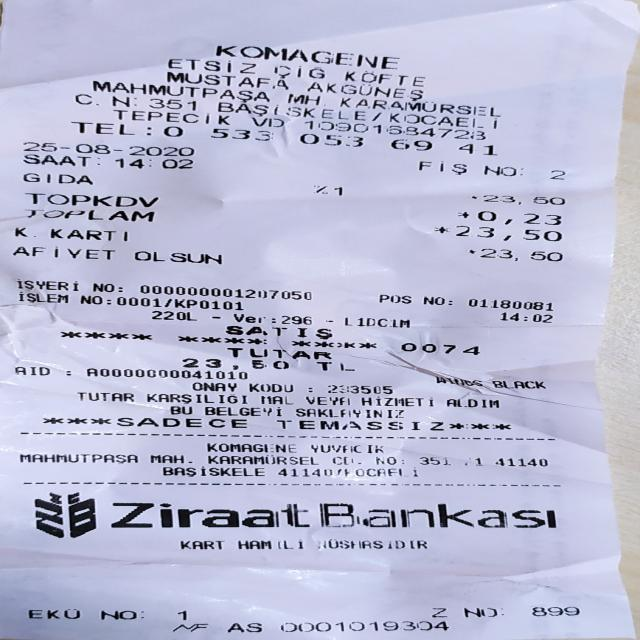text: (318, 500, 556, 531), (111, 500, 310, 530), (215, 42, 398, 70), (342, 92, 501, 120), (92, 80, 269, 102), (212, 98, 362, 123), (306, 120, 484, 141), (140, 283, 314, 300), (168, 67, 286, 92), (276, 416, 439, 434), (313, 78, 421, 102), (112, 106, 227, 128), (21, 142, 192, 156), (24, 190, 154, 208), (389, 109, 494, 131), (28, 205, 151, 223), (457, 223, 558, 244), (116, 414, 245, 430), (87, 367, 244, 380), (279, 620, 447, 631), (348, 66, 420, 90), (12, 245, 115, 261), (226, 346, 329, 362), (226, 323, 328, 339), (164, 57, 259, 74), (182, 357, 285, 372), (478, 208, 557, 227), (480, 246, 564, 263), (52, 225, 125, 244), (314, 538, 428, 550), (116, 154, 190, 172), (207, 454, 316, 466), (19, 453, 137, 464), (133, 250, 225, 264), (296, 406, 402, 418), (147, 392, 246, 404), (469, 297, 551, 311), (302, 130, 358, 150), (24, 169, 89, 186), (174, 296, 242, 312), (213, 125, 264, 145), (402, 342, 480, 355), (162, 466, 263, 476), (204, 404, 280, 417), (486, 193, 558, 206), (359, 395, 435, 407), (206, 442, 295, 452), (70, 122, 132, 136), (13, 278, 81, 290), (236, 538, 304, 550), (21, 153, 88, 165), (344, 317, 410, 329), (25, 606, 80, 620), (152, 95, 192, 113), (310, 443, 381, 453), (414, 160, 468, 173), (343, 468, 419, 477), (392, 135, 427, 154), (118, 294, 162, 309), (18, 292, 68, 305), (150, 308, 196, 322), (462, 138, 494, 158), (328, 384, 391, 394), (76, 391, 132, 402), (492, 378, 543, 390), (501, 310, 548, 323), (446, 397, 496, 409), (530, 605, 578, 617), (430, 376, 481, 387), (276, 467, 332, 477), (496, 457, 546, 468), (179, 538, 223, 549), (101, 607, 134, 621), (306, 396, 351, 406), (290, 90, 314, 108), (316, 360, 352, 372), (249, 382, 291, 392), (462, 606, 496, 618), (484, 165, 515, 178), (170, 621, 206, 632), (224, 621, 260, 632), (193, 382, 234, 391), (260, 394, 292, 405), (235, 312, 264, 324), (77, 90, 96, 108), (379, 293, 409, 304), (15, 366, 48, 376), (150, 454, 181, 464), (418, 456, 449, 466), (283, 313, 306, 326), (258, 114, 274, 131), (16, 224, 32, 240), (81, 292, 98, 307), (113, 92, 127, 110), (375, 456, 400, 466), (93, 280, 112, 293), (170, 404, 190, 415), (166, 122, 178, 140), (550, 169, 568, 181), (430, 606, 446, 619), (331, 456, 356, 464), (423, 296, 443, 306), (430, 224, 450, 233), (311, 184, 329, 193), (329, 186, 345, 195), (455, 211, 471, 219), (92, 153, 100, 168), (178, 608, 185, 622), (472, 192, 478, 204), (477, 456, 484, 466), (271, 313, 277, 324), (464, 248, 475, 254), (212, 311, 217, 322), (117, 280, 120, 295), (187, 454, 191, 464), (146, 122, 148, 139), (107, 294, 109, 308), (170, 296, 172, 310), (308, 383, 311, 392), (328, 315, 330, 326), (66, 367, 68, 376), (448, 296, 449, 306)
